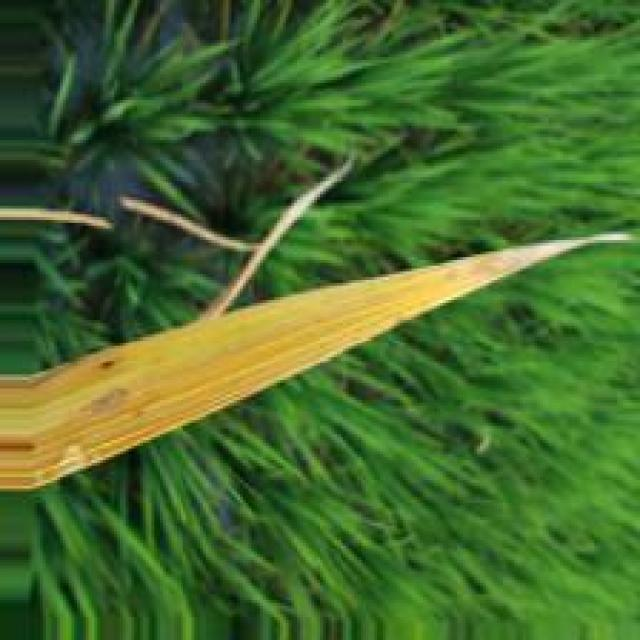Bacterial_Leaf_Blight: (0, 236, 640, 491)
